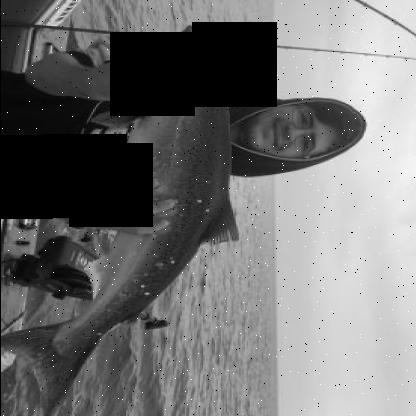fish: (6, 23, 240, 414)
